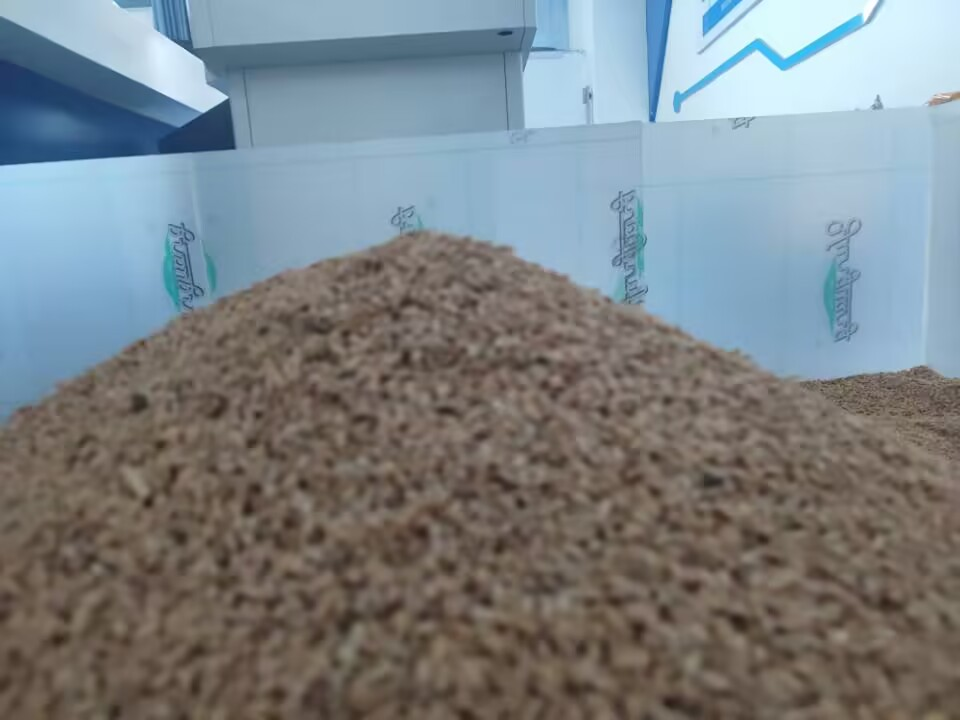Grain: (18, 224, 941, 694)
